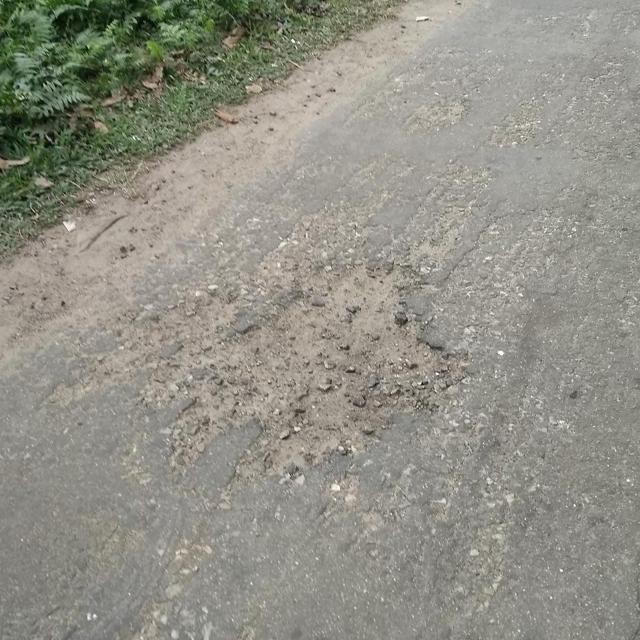lubang_kecil: (142, 248, 480, 485)
